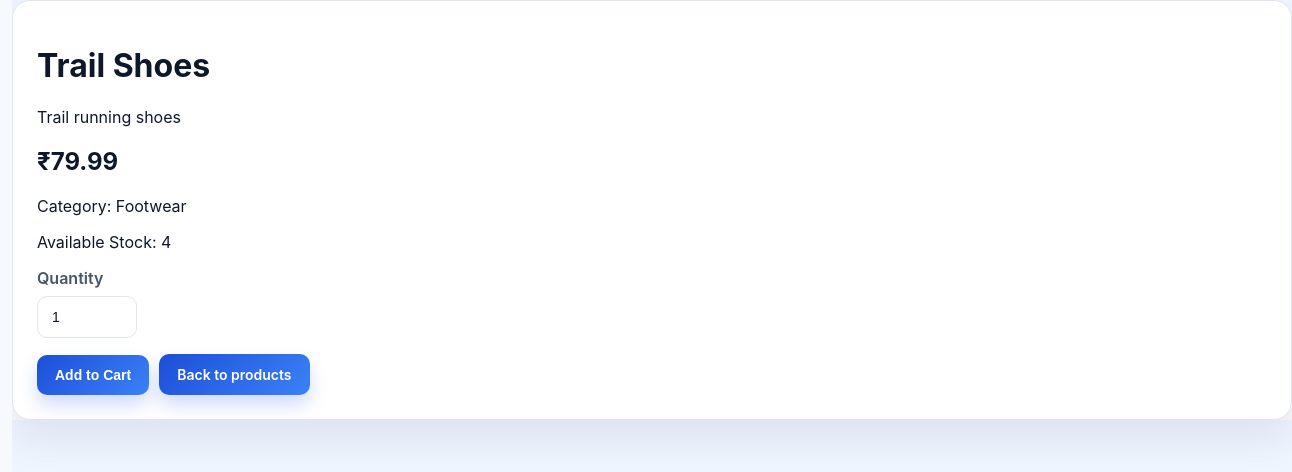
it: product details › returns to the product listing using the back link
Expected: the heading "Trail Shoes" is shown, [37, 46, 210, 85]
Click the link "Back to products": (234, 374) [159, 354, 310, 395]
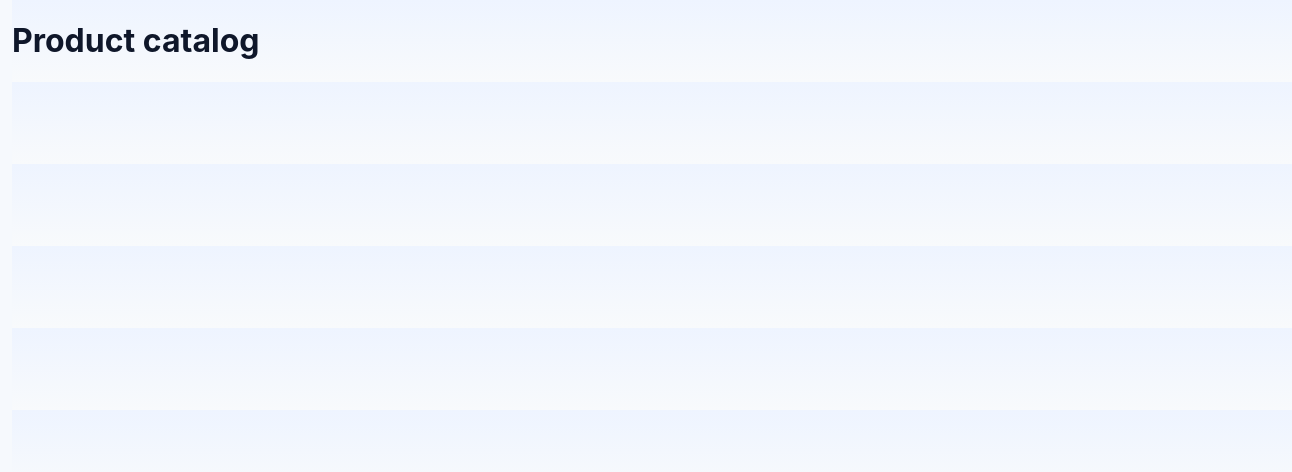
Expected: the heading "Product catalog" is shown, [12, 21, 260, 60]
